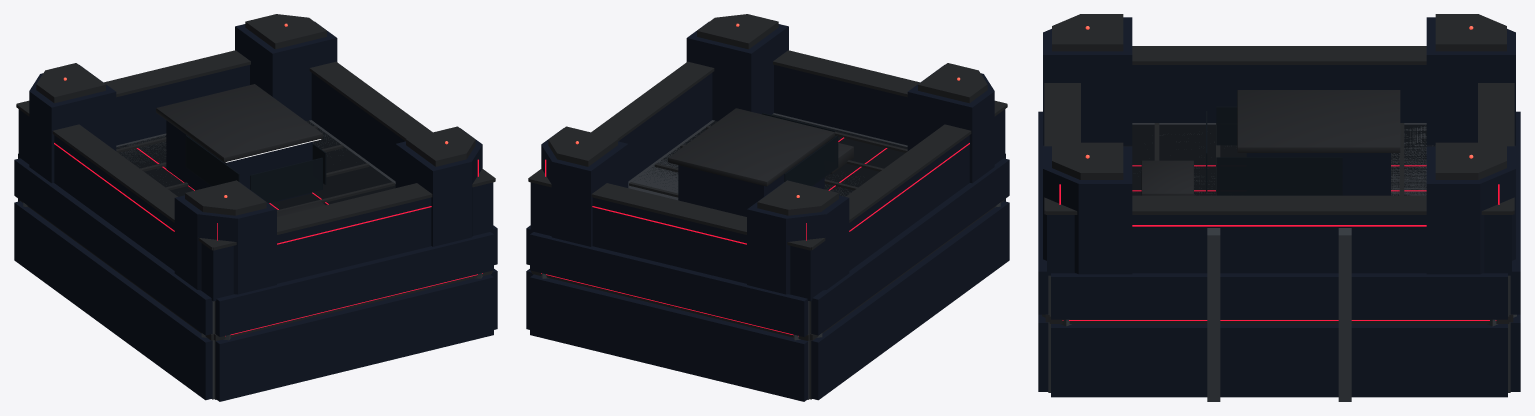
The model's file is hq_roof_l.gltf.
The picture shows the model from 3 angles, left to right: view 1: azimuth 30°, elevation 25°; view 2: azimuth 150°, elevation 25°; view 3: azimuth 270°, elevation 25°; orthographic projection. The views are drawn at different scales.
Visible parts, largest first — view 1: hull, graphite, dark, facade, crimson, panel; view 2: hull, graphite, dark, panel, facade, crimson; view 3: hull, graphite, dark, facade, fin, panel, crimson.
Boxes of the visible parts, box(x1,y1,x2,y2) form: hull: box(14, 22, 497, 401); graphite: box(16, 14, 495, 340); dark: box(116, 120, 395, 210); facade: box(185, 135, 326, 202); crimson: box(54, 143, 482, 336); panel: box(116, 120, 490, 399); hull: box(526, 22, 1009, 401); graphite: box(528, 14, 1007, 340); dark: box(639, 114, 907, 196); panel: box(533, 113, 907, 399); facade: box(762, 113, 838, 186); crimson: box(541, 137, 969, 336); hull: box(1038, 17, 1520, 397); graphite: box(1044, 14, 1514, 323); dark: box(1123, 124, 1435, 195); facade: box(1206, 106, 1342, 195); fin: box(1042, 228, 1516, 401); panel: box(1048, 123, 1510, 392); crimson: box(1059, 165, 1499, 320).
Size of the model in its own units: 31.35 by 18.71 by 36.7.
